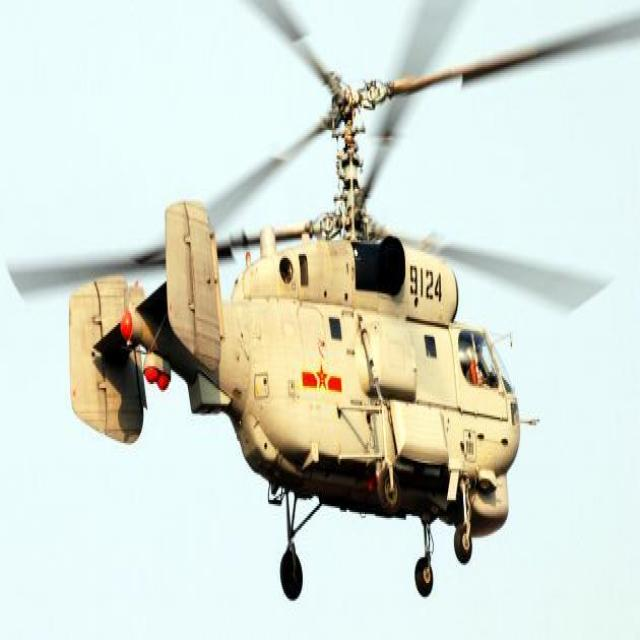MIL_HELO: (9, 0, 612, 622)
